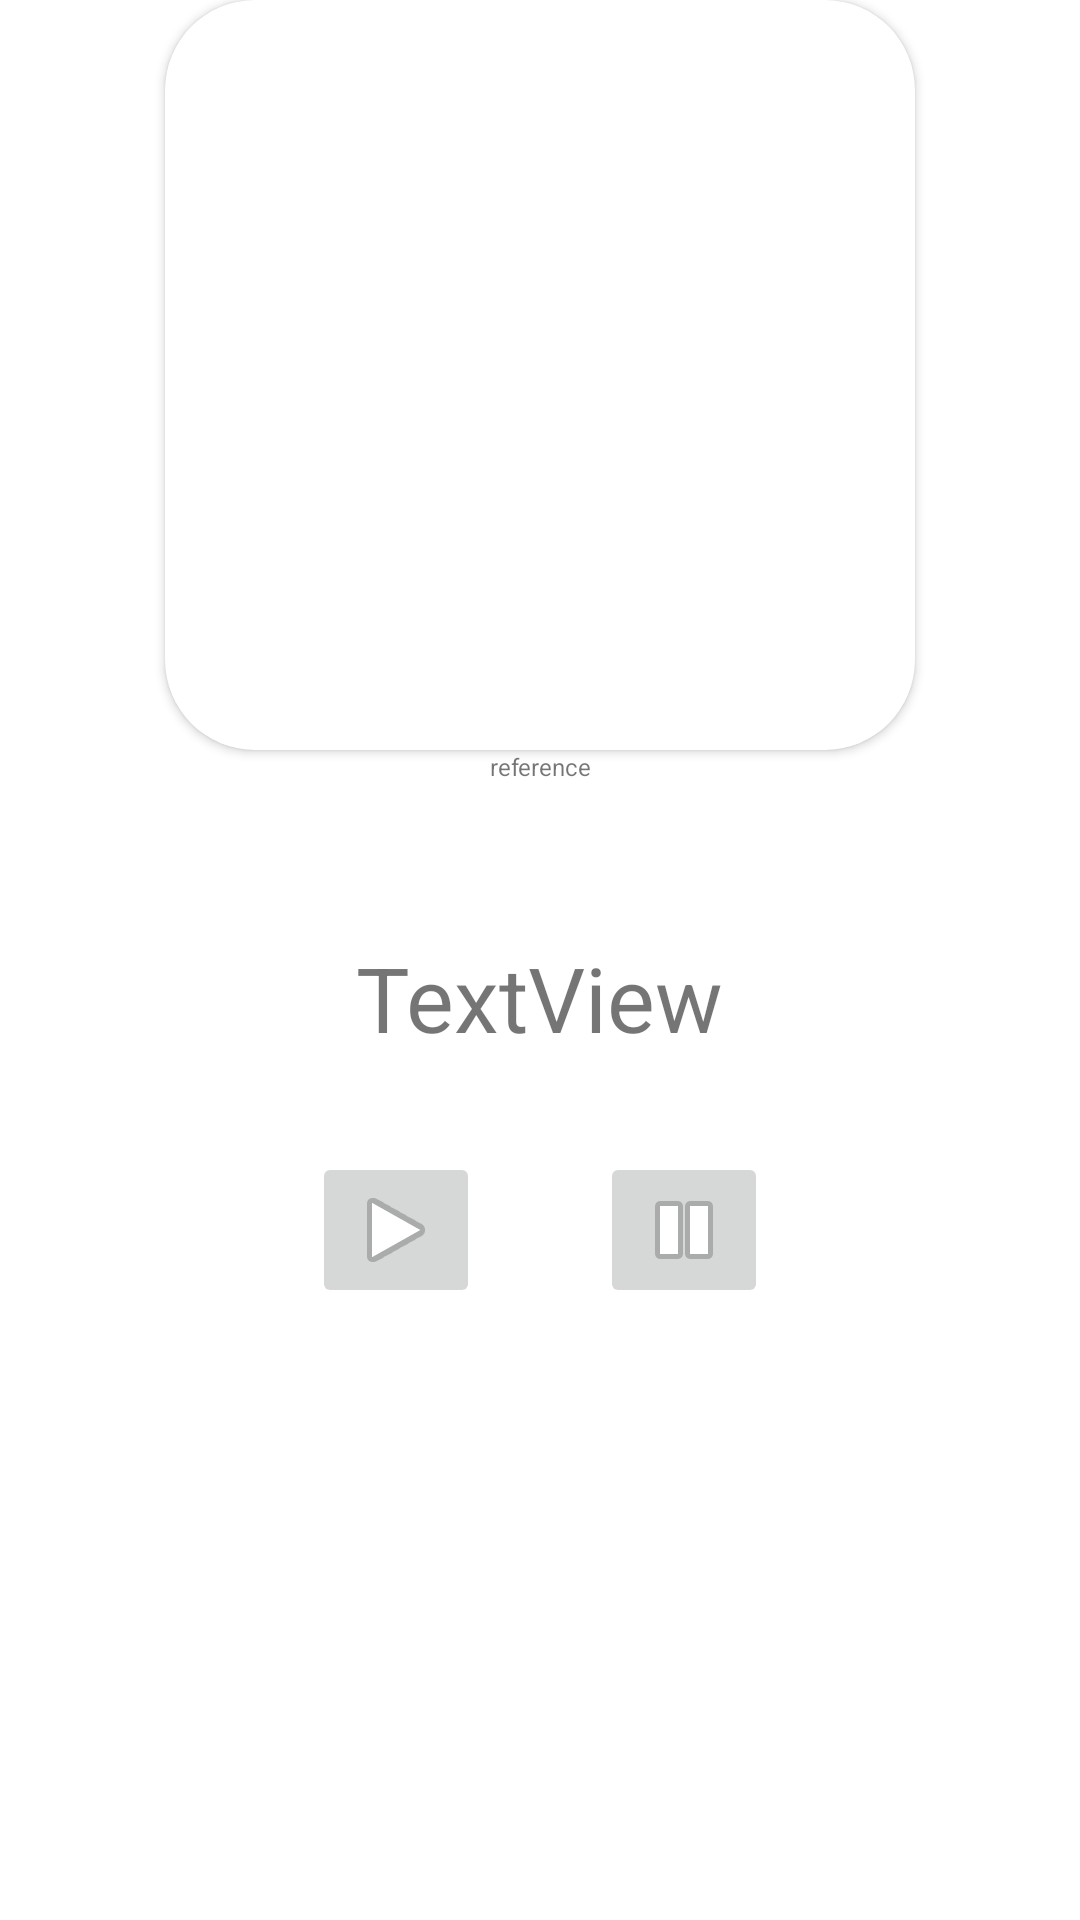

Icons on this 1080w x 1920h Android screen, each with the point to tap as [x,y]:
pause: [684,1230]
play: [396,1230]
